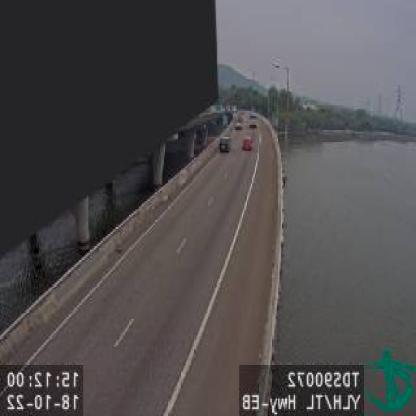Car: (217, 137, 231, 154), (242, 136, 253, 152)
